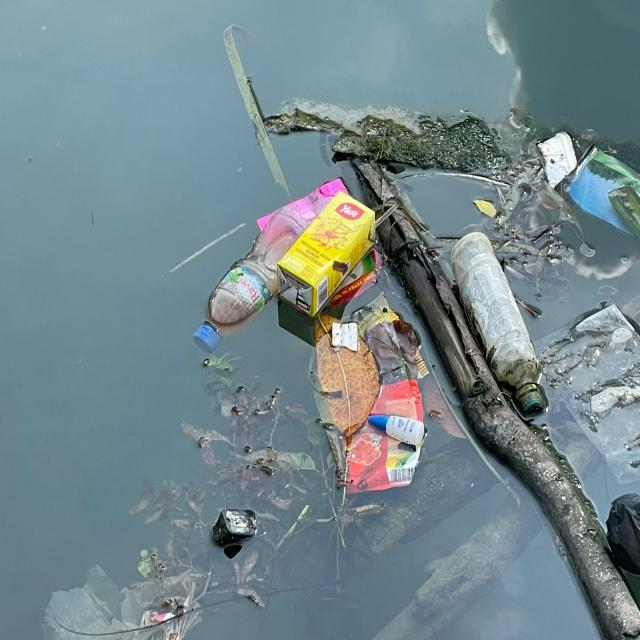Botol Plastik: (447, 231, 556, 417), (191, 212, 307, 377), (367, 411, 428, 451)
Bungkus Makanan: (335, 381, 430, 499)
